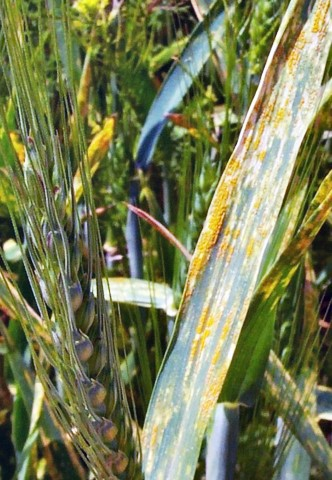Leaf Rust: (178, 61, 320, 357)
